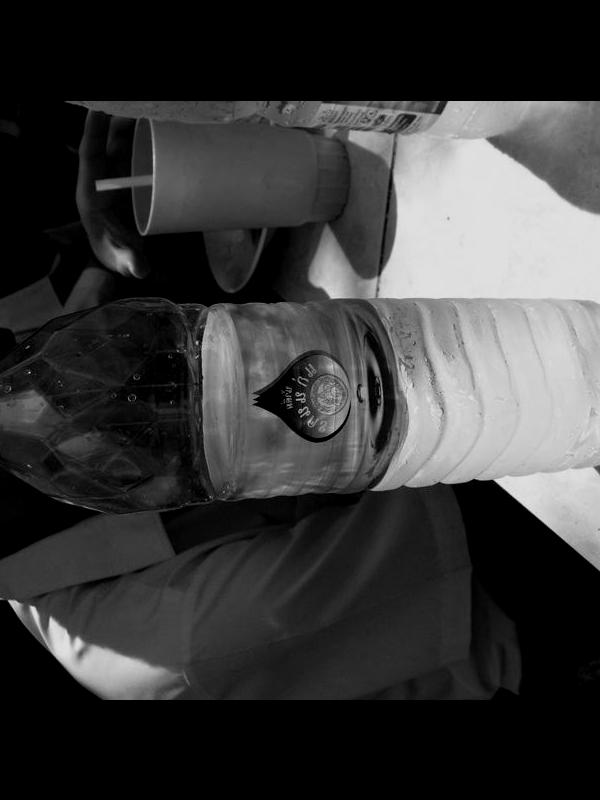bottle: (0, 284, 600, 533), (26, 100, 540, 156)
